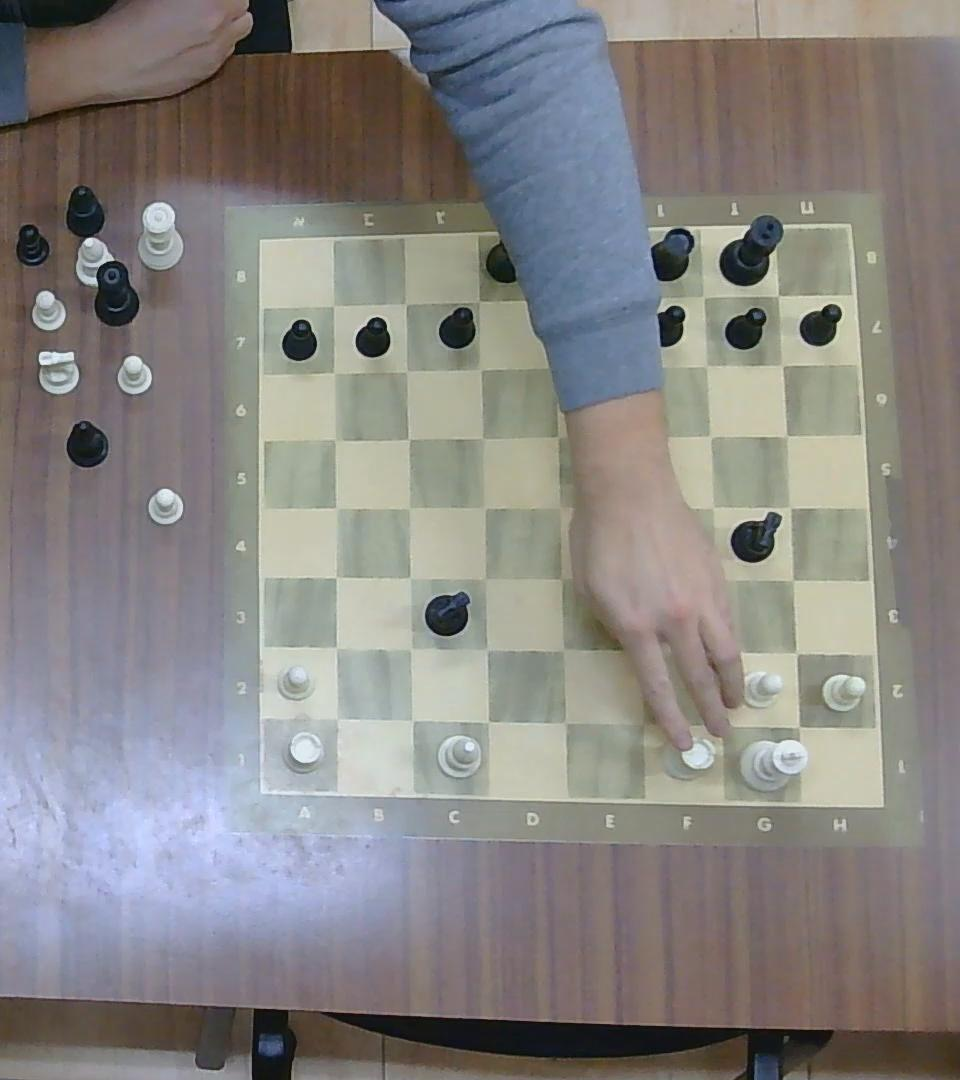xcorner: (705, 707, 737, 740), (783, 708, 814, 742), (624, 706, 656, 738), (548, 706, 579, 738), (470, 633, 501, 665), (776, 564, 807, 596), (781, 637, 812, 668), (320, 701, 351, 732), (620, 350, 651, 381), (395, 703, 425, 734), (471, 705, 502, 735), (394, 632, 424, 663), (320, 561, 350, 592), (624, 563, 654, 594), (621, 492, 651, 523), (706, 636, 737, 666), (620, 421, 650, 452), (548, 634, 578, 664), (320, 633, 350, 662), (548, 563, 577, 593), (699, 491, 728, 521), (470, 564, 499, 593), (776, 491, 805, 520), (536, 351, 565, 380), (621, 635, 650, 664), (470, 492, 499, 520), (395, 562, 423, 591), (467, 422, 495, 451), (702, 565, 729, 595), (395, 492, 423, 520), (322, 492, 350, 520), (543, 421, 571, 449), (318, 291, 346, 319), (320, 357, 348, 385), (320, 425, 348, 452), (546, 492, 573, 520), (465, 286, 493, 313), (467, 353, 493, 382), (772, 422, 800, 448), (538, 286, 564, 314), (618, 285, 643, 314), (393, 356, 419, 383), (395, 423, 421, 450), (697, 421, 723, 448), (768, 351, 795, 377), (690, 284, 717, 309), (393, 289, 419, 314), (694, 351, 719, 377), (766, 283, 791, 307)
